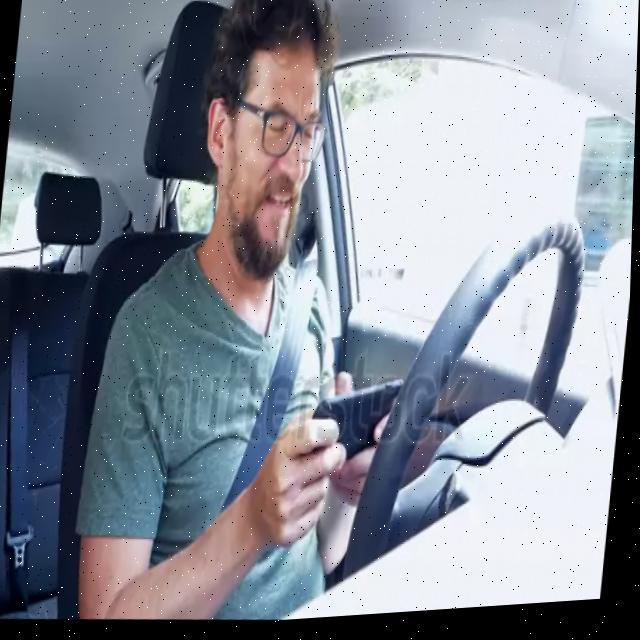PhoneCall: (302, 373, 405, 474)
